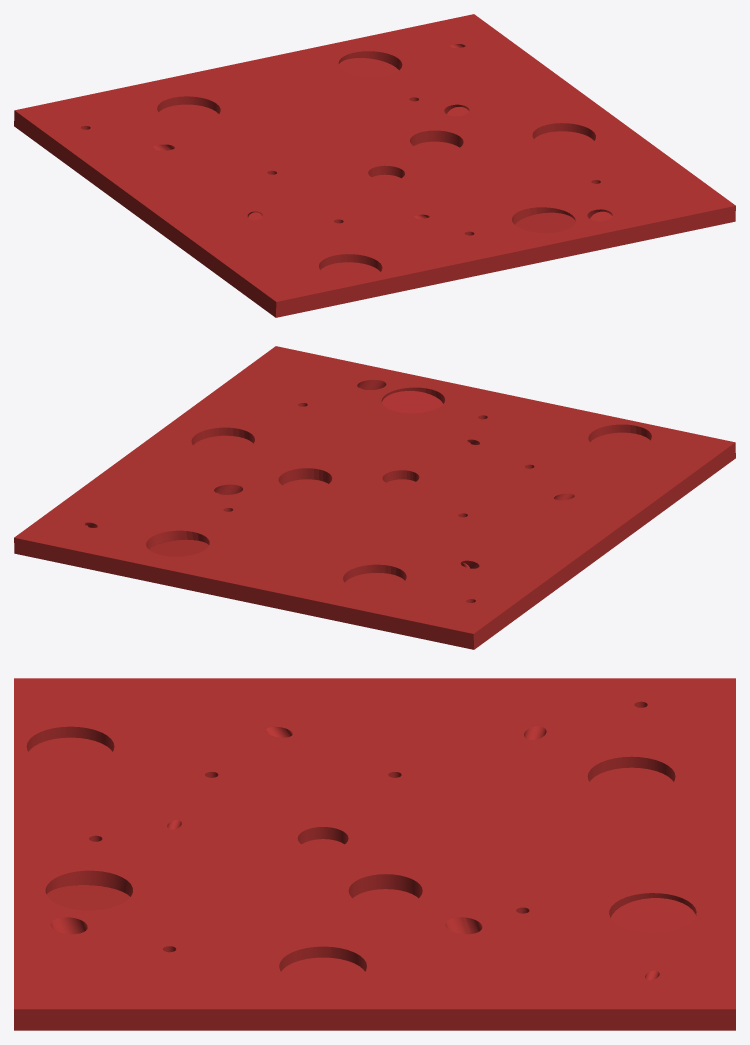
The model's file is TexturedplainGround.fbx.
The picture shows the model from 3 angles, top to bottom: view 1: azimuth 30°, elevation 25°; view 2: azimuth 150°, elevation 25°; view 3: azimuth 270°, elevation 25°; orthographic projection. The views are drawn at different scales.
Parts seen in each view (by area): view 1: ground; view 2: ground; view 3: ground.
Part boxes in pixels (x1,y1,x2,y2): ground: (14, 14, 735, 317); ground: (14, 346, 735, 649); ground: (14, 678, 735, 1030).
Size of the model in its own units: 198 by 13.03 by 195.
1 material, 1 textured.
